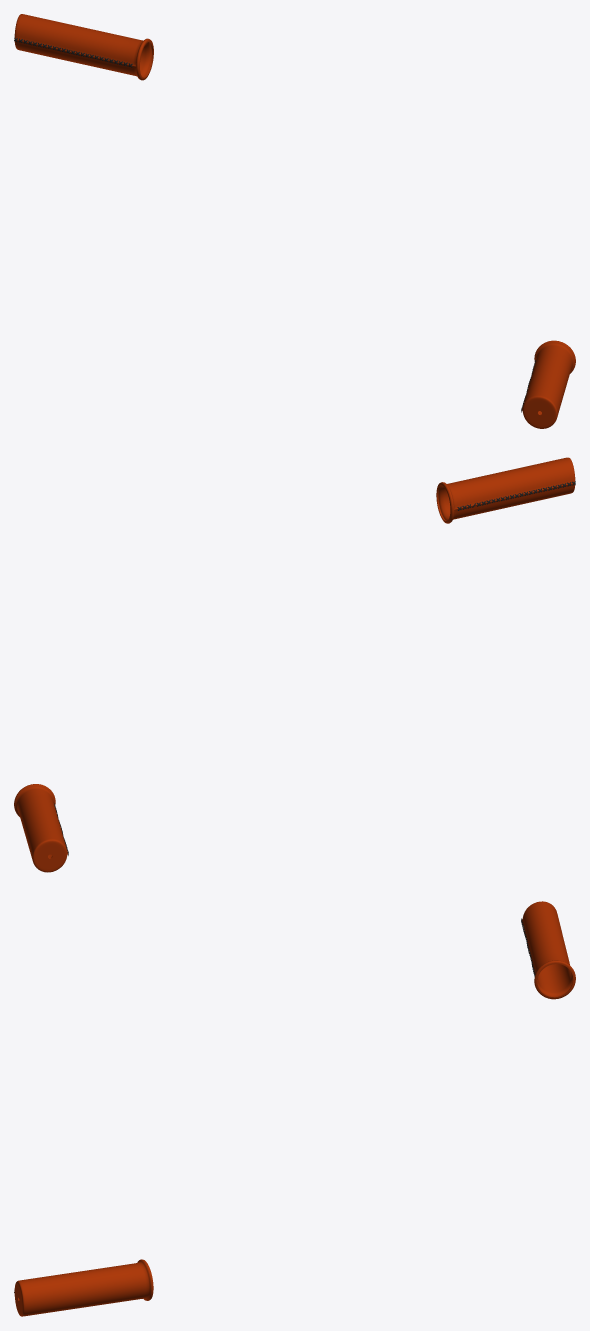
3 views of the same model, one above another, from view 1: azimuth 30°, elevation 25°; view 2: azimuth 150°, elevation 25°; view 3: azimuth 330°, elevation 25° (orthographic).
Parts seen in each view (by area): view 1: OBJ.023; view 2: OBJ.023; view 3: OBJ.023.
Part boxes in pixels (x1,y1,x2,y2): OBJ.023: [14, 14, 575, 428]; OBJ.023: [14, 457, 575, 872]; OBJ.023: [14, 901, 575, 1316].
Bounding box in the file's own units: 2.9 × 1.14 × 27.58.
